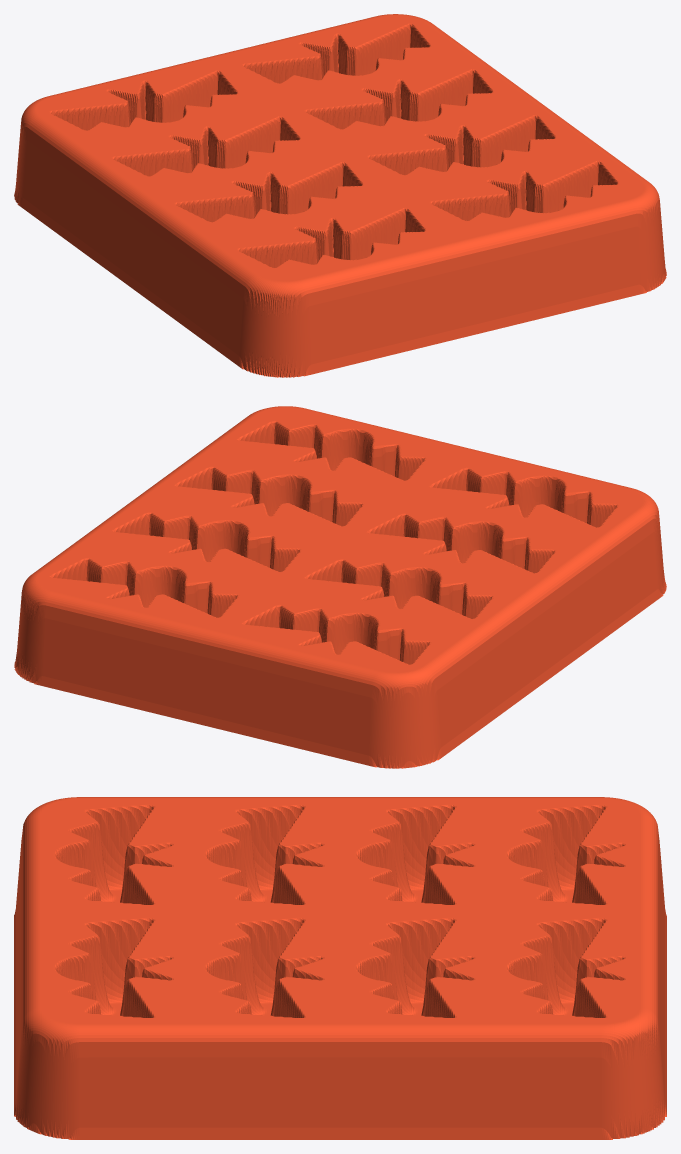
Rendered from mold.glb.
3 views of the same model, one above another, from view 1: azimuth 30°, elevation 25°; view 2: azimuth 150°, elevation 25°; view 3: azimuth 270°, elevation 25° (orthographic). The views are drawn at different scales.
Parts seen in each view (by area): view 1: geometry_0; view 2: geometry_0; view 3: geometry_0.
Part boxes in pixels (box(x1,y1,x2,y2)): geometry_0: box(14, 14, 666, 377); geometry_0: box(14, 406, 666, 768); geometry_0: box(14, 797, 666, 1139).
Size of the model in its own units: 0.0809 by 0.0159 by 0.0902.
